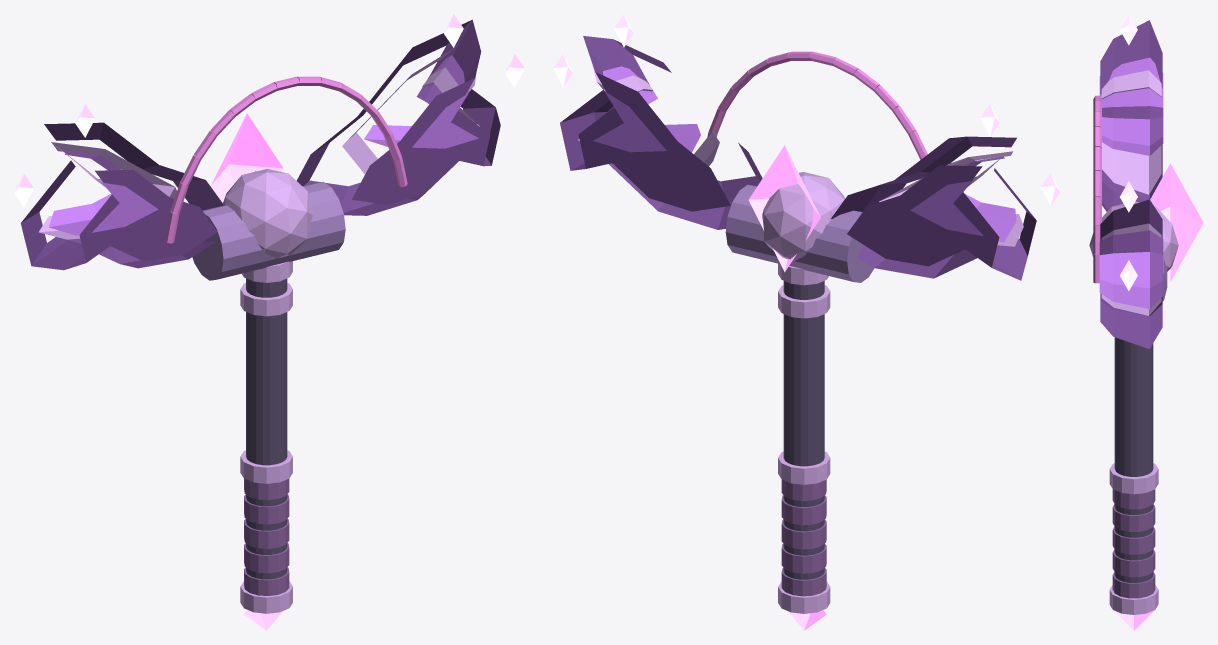
Rendered from pick_mythic_concept_v1.glb.
3 views of the same model, side by side, from view 1: azimuth 30°, elevation 25°; view 2: azimuth 150°, elevation 25°; view 3: azimuth 270°, elevation 25° (orthographic). The views are drawn at different scales.
Parts seen in each view (by area): view 1: AbyssalScythe_left_17, AbyssalScythe_right_16, ForgedHandle_1, CrossHeadBridge_13, GemHousing_14, ArcaneBlade_left_21, ArcaneBlade_right_20, AbyssalCore_22, VioletEdge_right_18, VioletEdge_left_19, MetalCollar_9, MetalCollar_8 (+7 smaller); view 2: AbyssalScythe_left_17, AbyssalScythe_right_16, ForgedHandle_1, CrossHeadBridge_13, GemHousing_14, ArcaneBlade_right_20, ArcaneBlade_left_21, AbyssalCore_22, MetalCollar_8, MetalCollar_9, MetalCollar_7, VioletEdge_left_19 (+6 smaller); view 3: ForgedHandle_1, ArcaneBlade_left_21, ArcaneBlade_right_20, AbyssalScythe_right_16, VioletEdge_left_19, AbyssalScythe_left_17, AbyssalCore_22, MetalCollar_8, MetalCollar_7, GemHousing_14, GripWrap_-1.62_3, GripWrap_-1.38_4 (+13 smaller).
Boxes of the visible parts, box(x1,y1,x2,y2) form: AbyssalScythe_left_17: box(20, 122, 223, 270); AbyssalScythe_right_16: box(296, 19, 500, 215); ForgedHandle_1: box(246, 278, 287, 579); CrossHeadBridge_13: box(192, 181, 345, 280); GemHousing_14: box(223, 169, 312, 258); ArcaneBlade_left_21: box(49, 149, 158, 235); ArcaneBlade_right_20: box(364, 55, 478, 148); AbyssalCore_22: box(210, 113, 283, 202); VioletEdge_right_18: box(342, 46, 479, 174); VioletEdge_left_19: box(39, 142, 176, 239); MetalCollar_9: box(240, 283, 292, 316); MetalCollar_8: box(240, 450, 292, 483); AbyssalScythe_left_17: box(831, 136, 1036, 280); AbyssalScythe_right_16: box(560, 36, 762, 229); ForgedHandle_1: box(783, 281, 824, 579); CrossHeadBridge_13: box(725, 184, 873, 282); GemHousing_14: box(759, 172, 844, 261); ArcaneBlade_right_20: box(593, 66, 700, 152); ArcaneBlade_left_21: box(910, 156, 1016, 242); AbyssalCore_22: box(748, 145, 820, 272); MetalCollar_8: box(778, 451, 830, 484); MetalCollar_9: box(778, 285, 830, 318); MetalCollar_7: box(778, 581, 830, 613); VioletEdge_left_19: box(879, 151, 1023, 246); ForgedHandle_1: box(1114, 337, 1153, 582); ArcaneBlade_left_21: box(1099, 57, 1163, 155); ArcaneBlade_right_20: box(1099, 230, 1163, 309); AbyssalScythe_right_16: box(1100, 199, 1162, 348); VioletEdge_left_19: box(1101, 70, 1161, 194); AbyssalScythe_left_17: box(1100, 20, 1162, 211); AbyssalCore_22: box(1150, 163, 1203, 281); MetalCollar_8: box(1109, 463, 1158, 494); MetalCollar_7: box(1109, 585, 1158, 614); GemHousing_14: box(1089, 201, 1178, 271); GripWrap_-1.62_3: box(1112, 549, 1155, 577); GripWrap_-1.38_4: box(1112, 526, 1155, 554).
Size of the model in its own units: 5.27 by 5.66 by 1.1.
